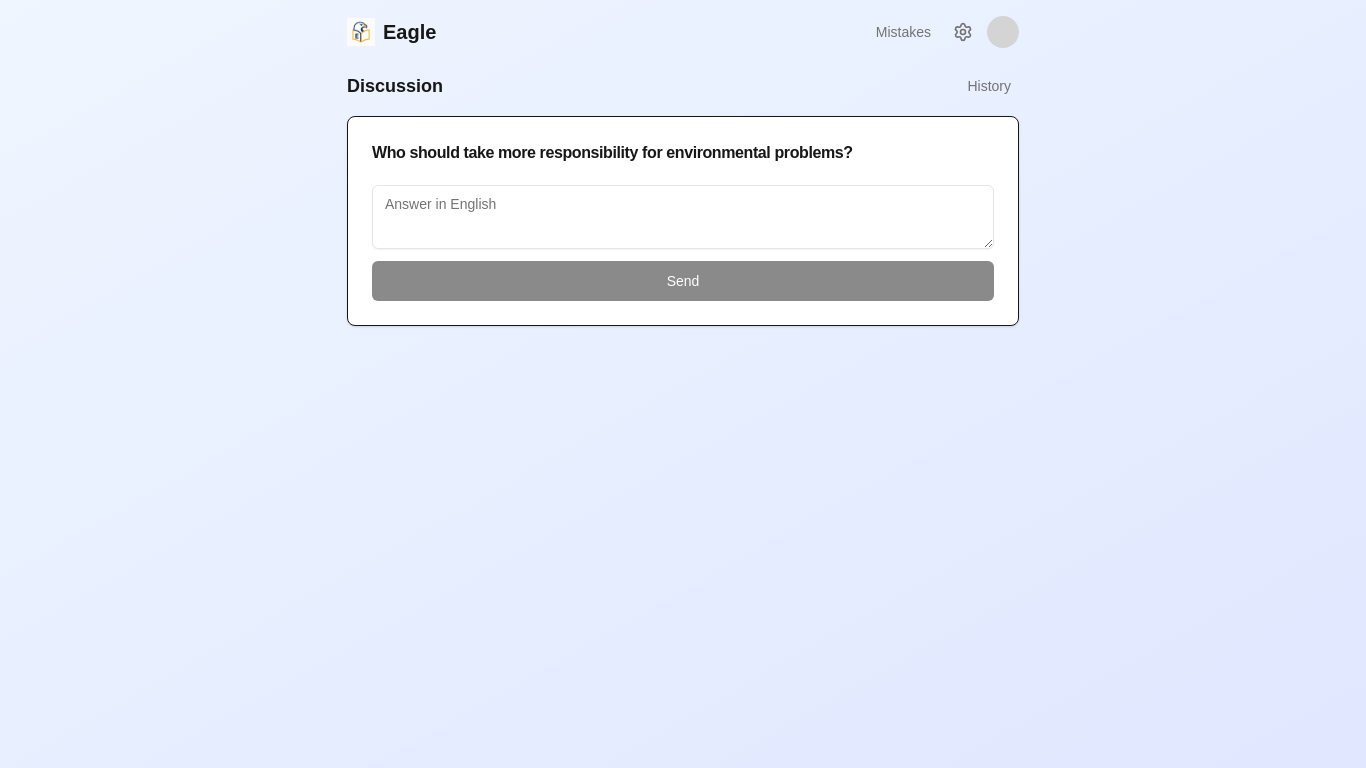
Test case: DiscussionSession › shows the summary when the API sends no refined_messages
The width and height of the screenshot is (1366, 768).
expect the heading "Who should take more responsibility for environmental problems?" is shown: met, box x1=372 y1=144 x2=853 y2=161
Type "I think companies." into the text box named "Your answer".
click(683, 217); type("I think companies.")  # box x1=372 y1=185 x2=994 y2=249
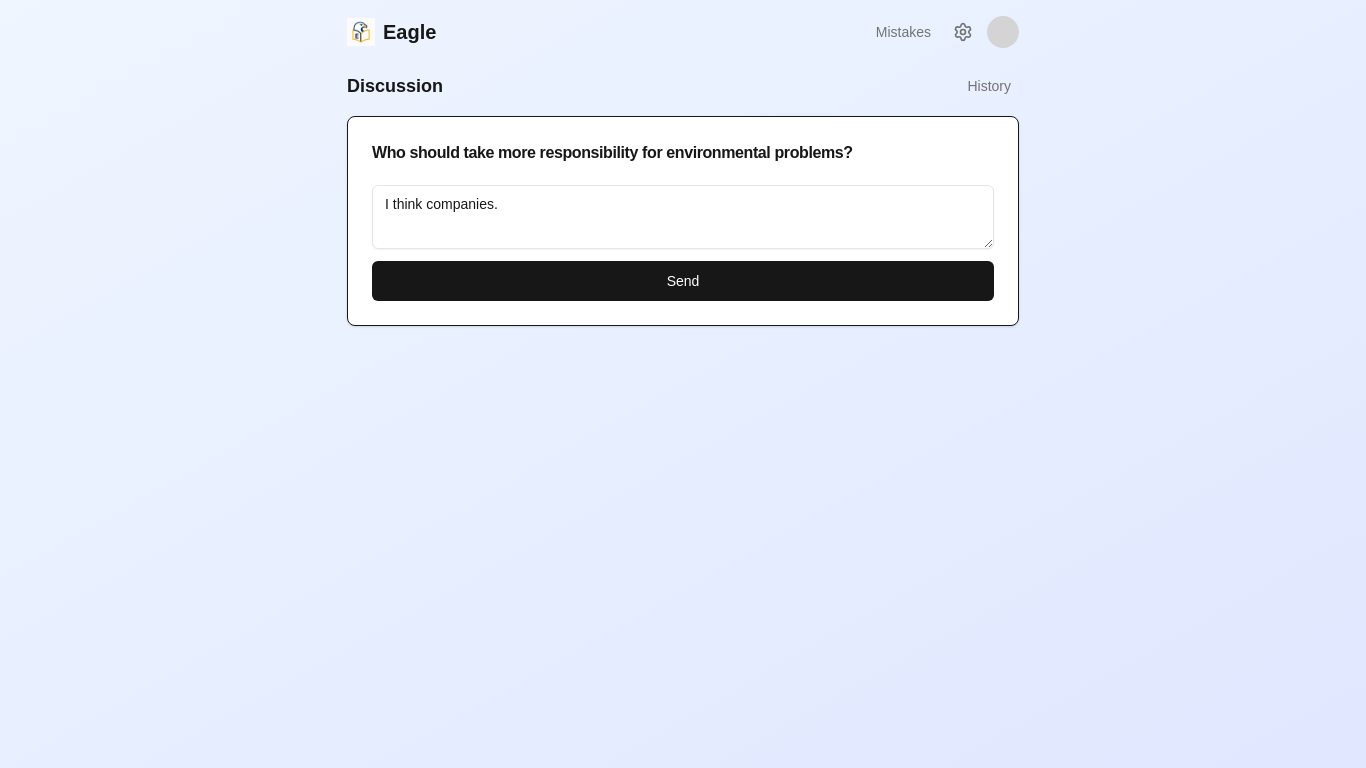
Click the button "Send".
click(683, 281)  # box x1=372 y1=261 x2=994 y2=301
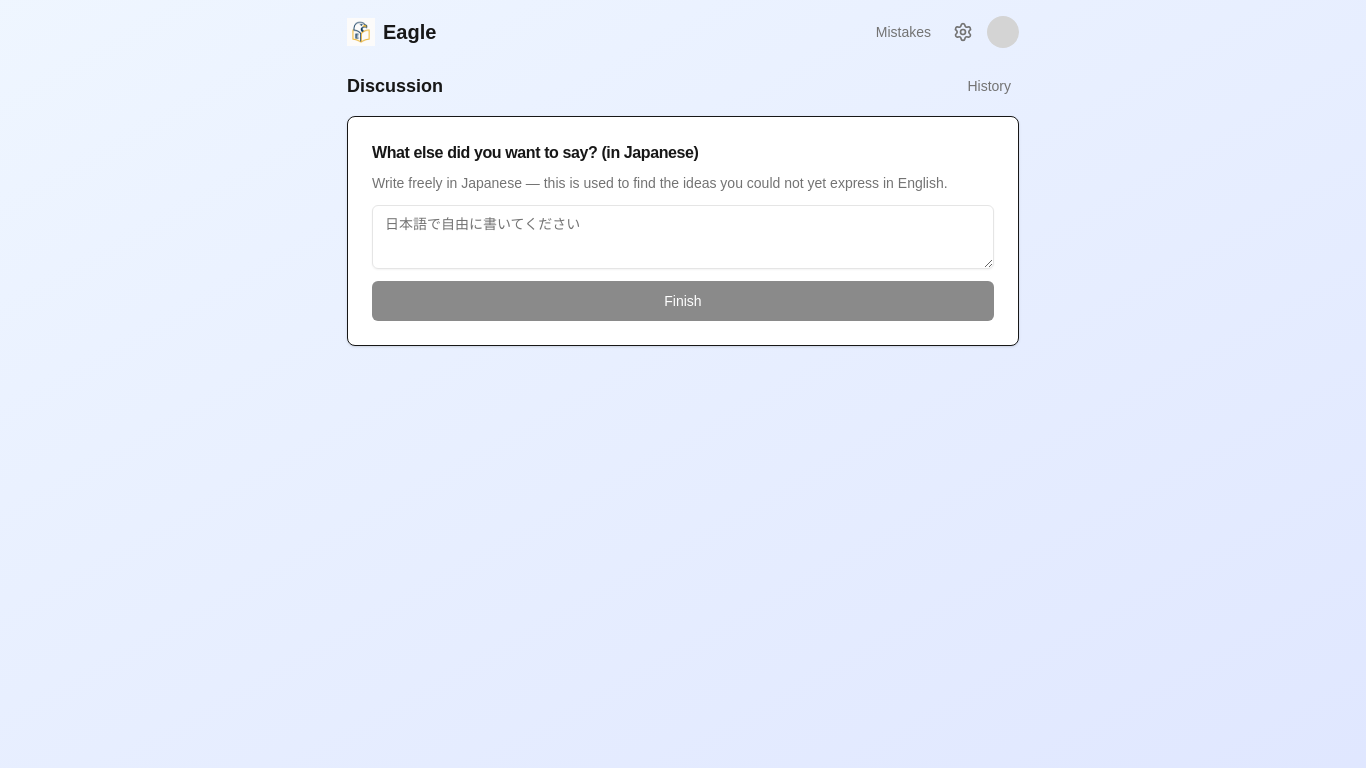
expect the text box named "Japanese reflection" is shown: met
Type "あ" into the text box named "Japanese reflection".
click(683, 237); type("あ")  # box x1=372 y1=205 x2=994 y2=269
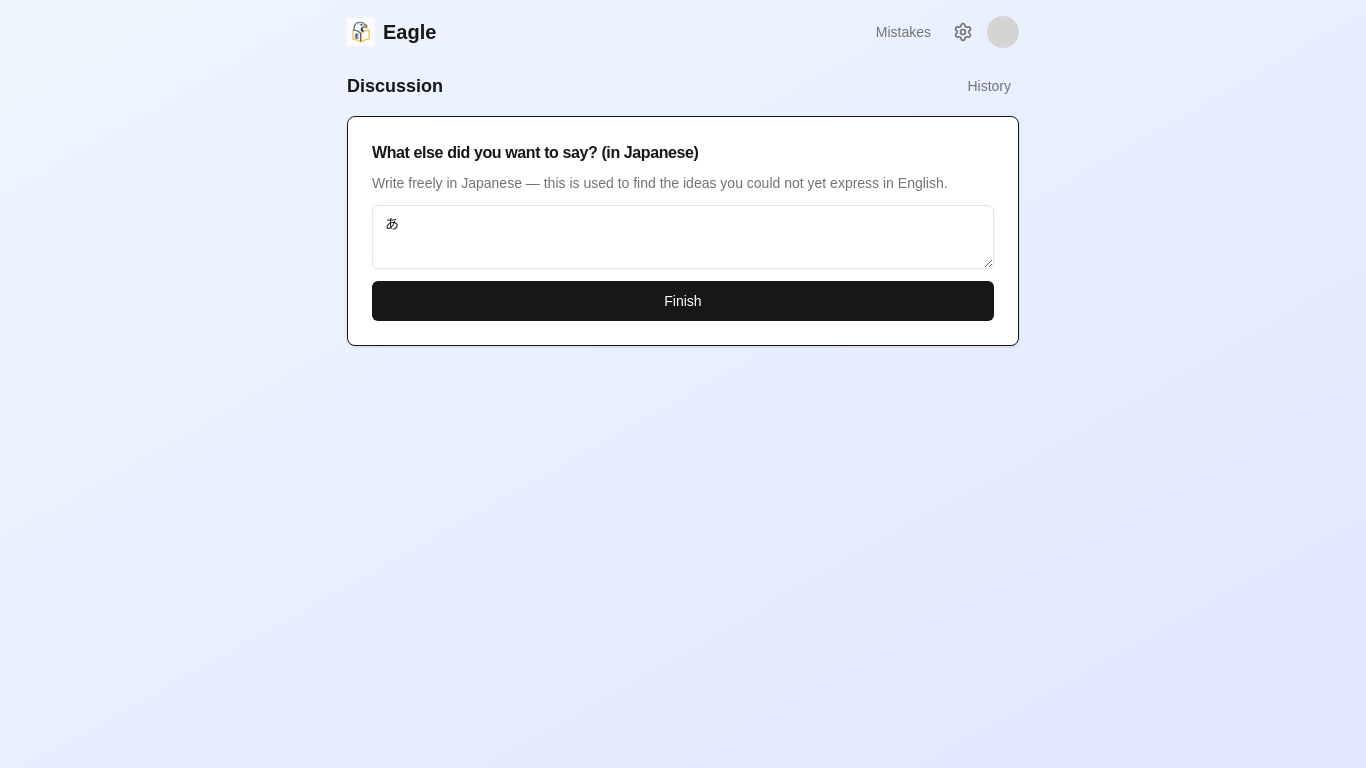
Click the button "Finish".
click(683, 301)  # box x1=372 y1=281 x2=994 y2=321
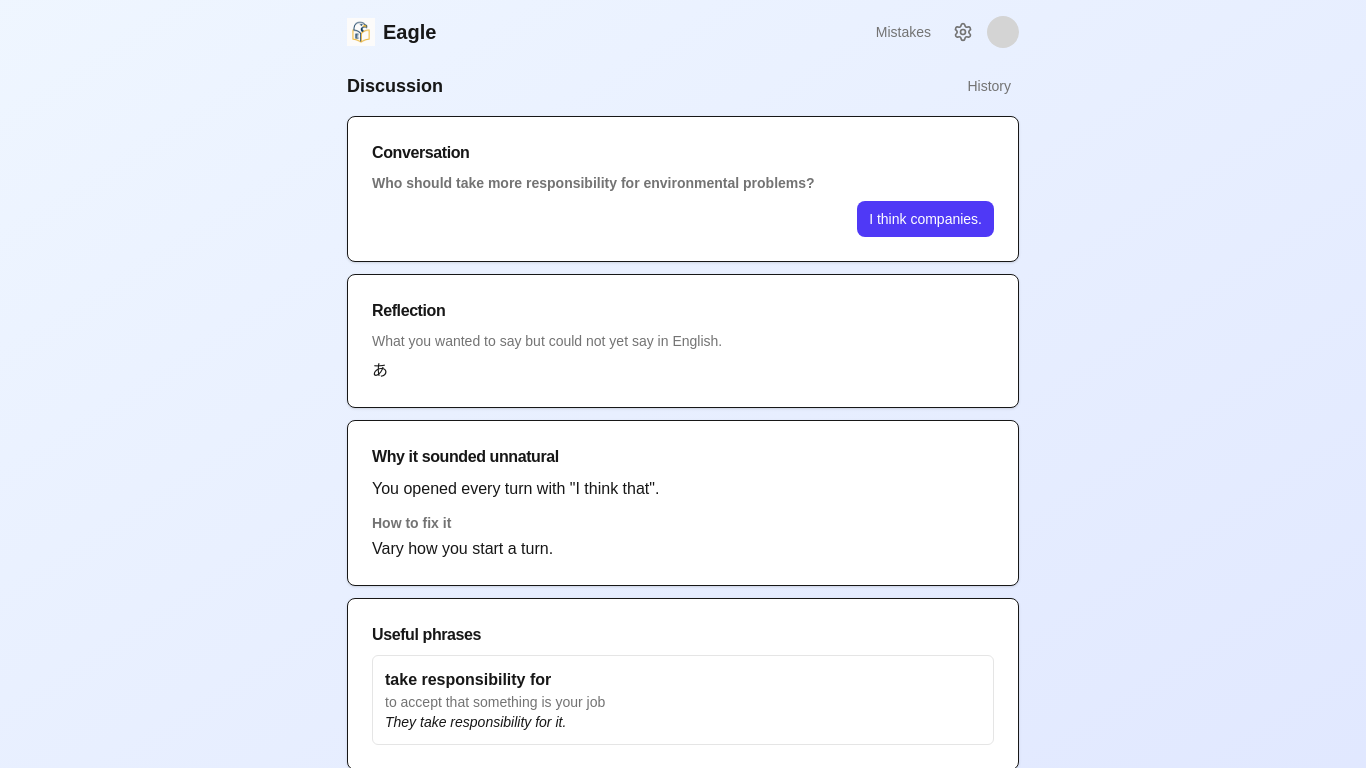
expect the text "You opened every turn with \"I think that\"." is shown: met, box x1=372 y1=480 x2=659 y2=497
expect the text "I think companies." is shown: met, box x1=857 y1=201 x2=994 y2=237
